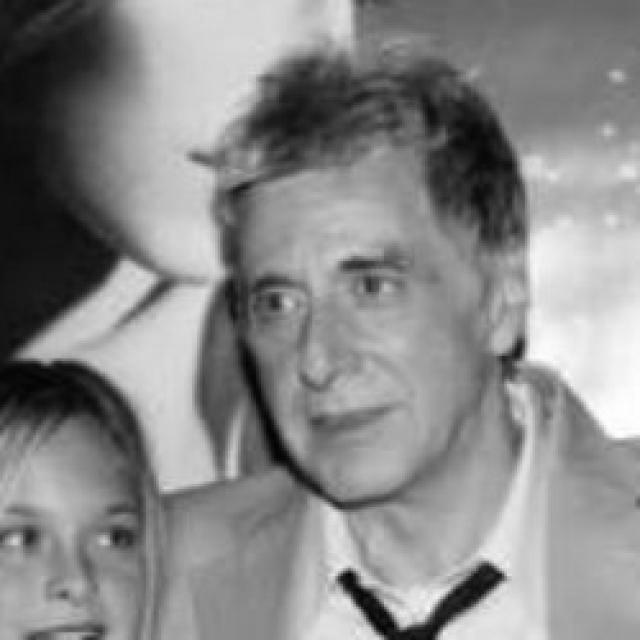real: (222, 77, 520, 508), (0, 364, 207, 640), (235, 246, 434, 327), (0, 506, 138, 563)
